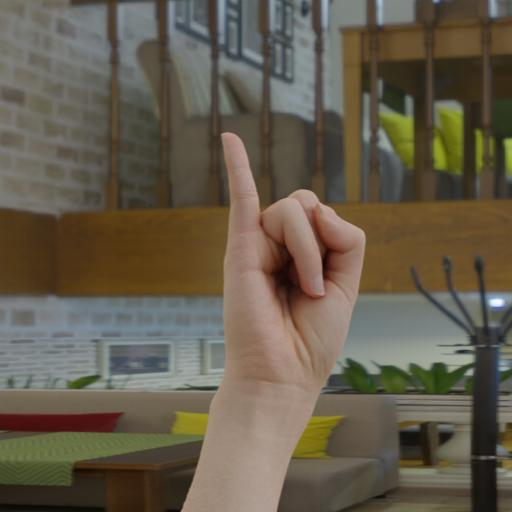I: (213, 126, 372, 400)
